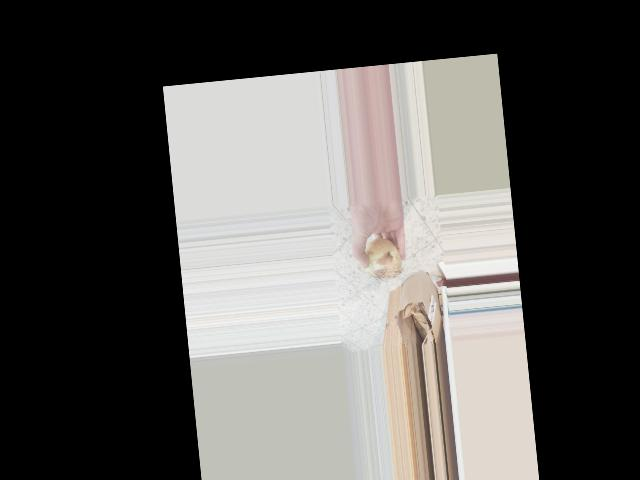onion: (353, 231, 403, 283)
